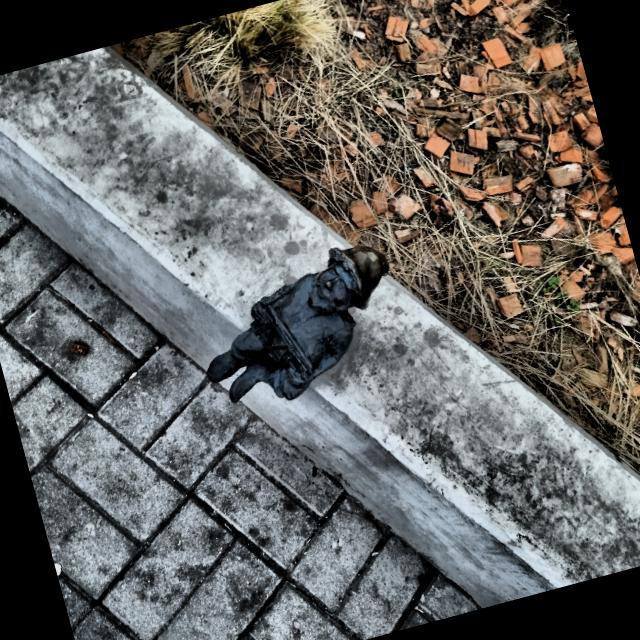Krasnal_Millenniowski: (206, 247, 389, 403)
